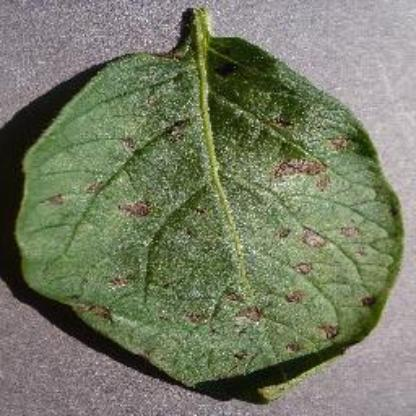Early-Blight: (10, 0, 416, 408)
